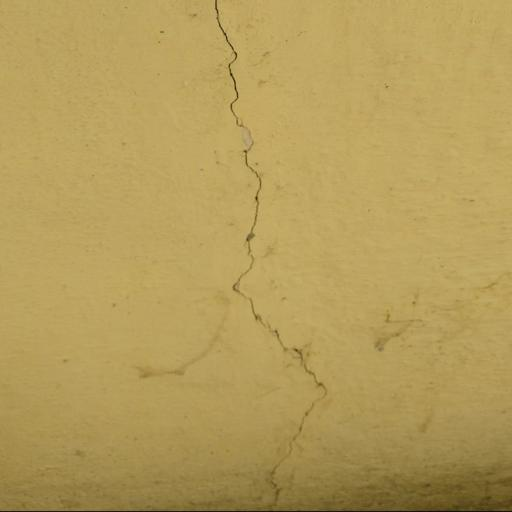minor_crack: (188, 0, 336, 512)
